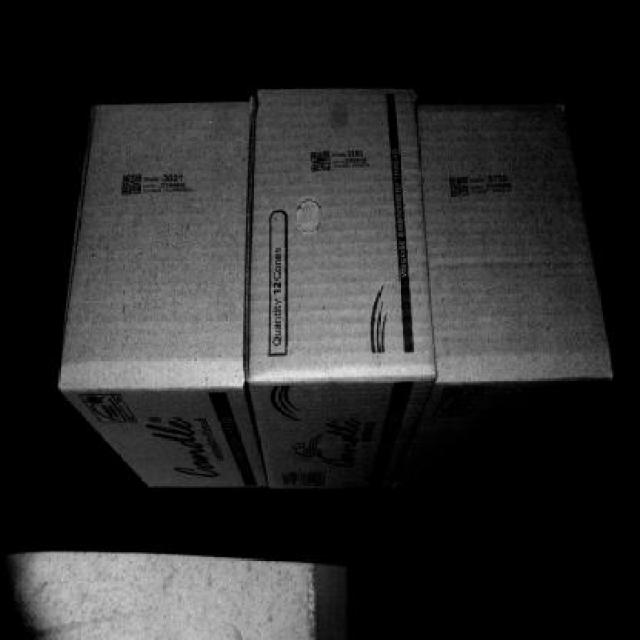cardboxes: (423, 88, 612, 374), (64, 95, 248, 388), (265, 87, 433, 376)
